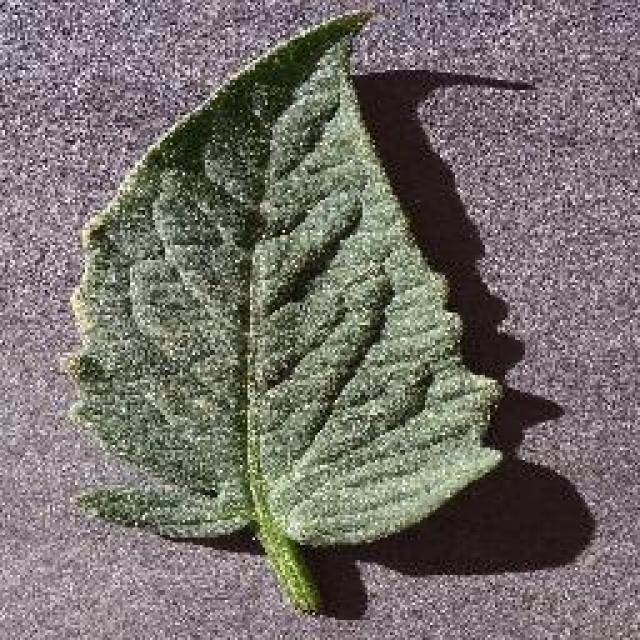Tomato healthy leaf: (69, 21, 509, 591)
